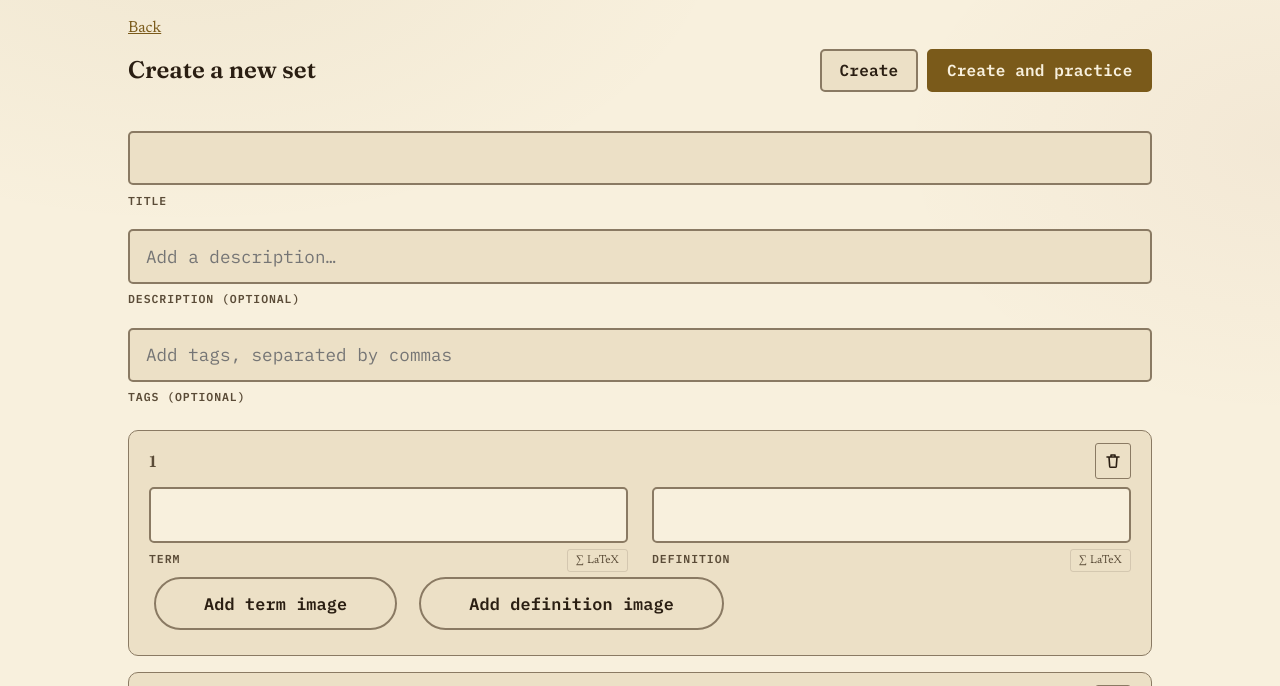
SetCreatePage › requires a title with an accessible inline error
The image size is (1280, 686).
In the text box named "Term for card 1": (388, 515) [149,487,628,543], type "q"
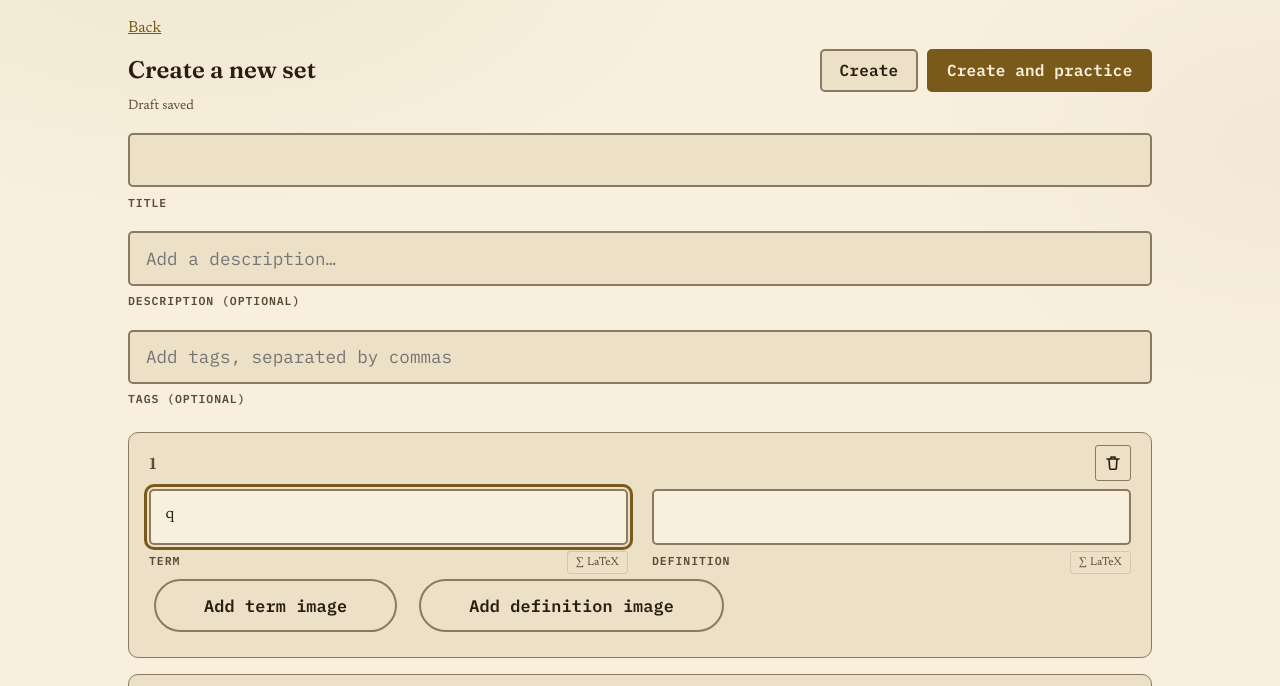
In the text box named "Definition for card 1": (892, 517) [652,489,1131,545], type "a"
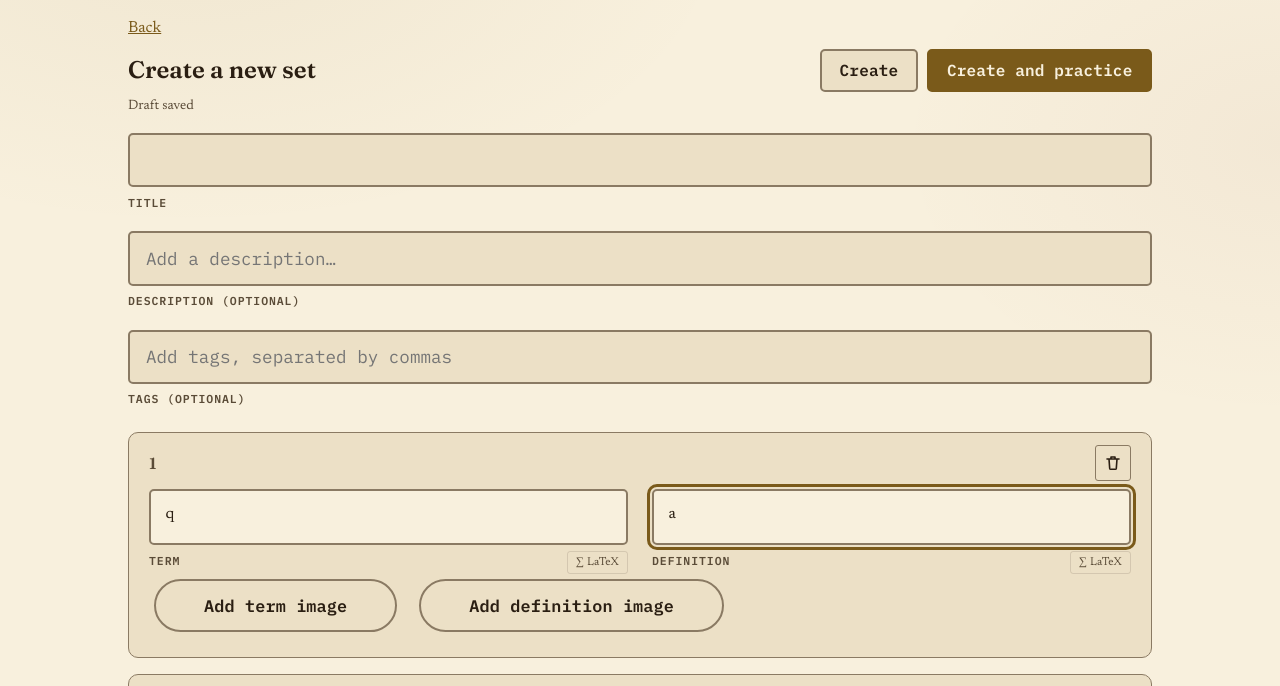
Click the button "Create": (869, 70) [820,49,918,92]
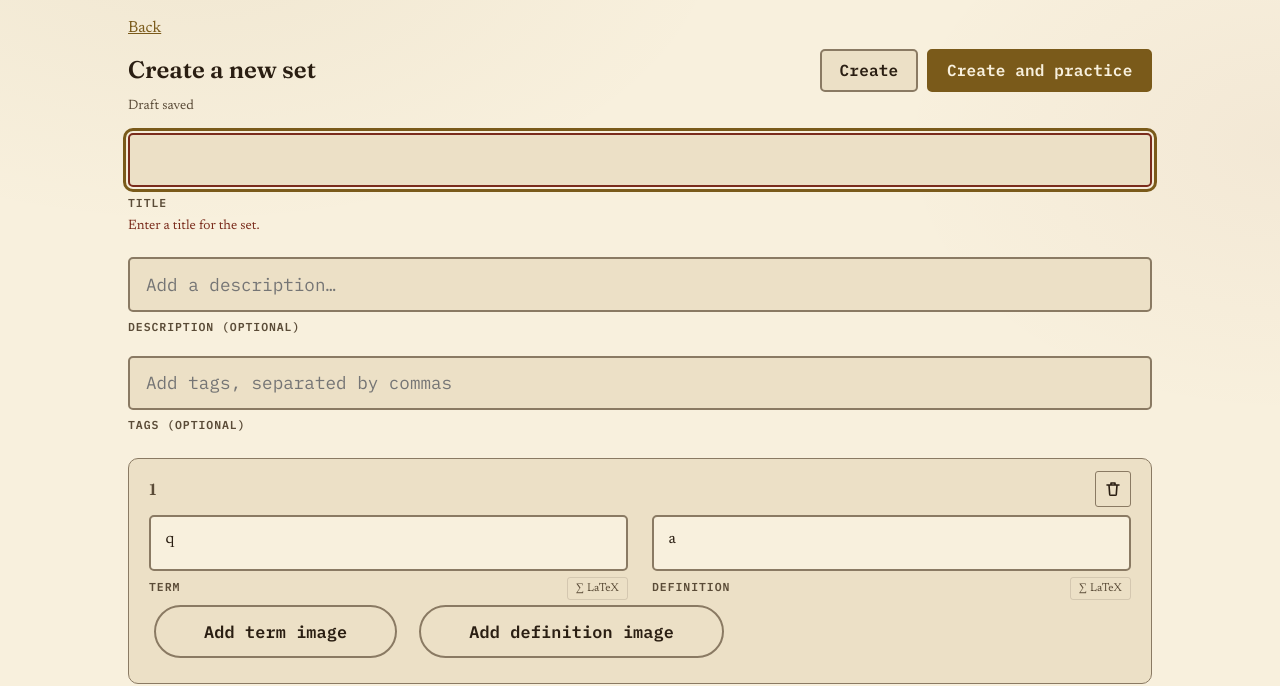
expect the message "Enter a title for the set." is shown: met, box [128,219,260,233]
In the field labelled "Title": (640, 160) [128,133,1152,187], type "T"
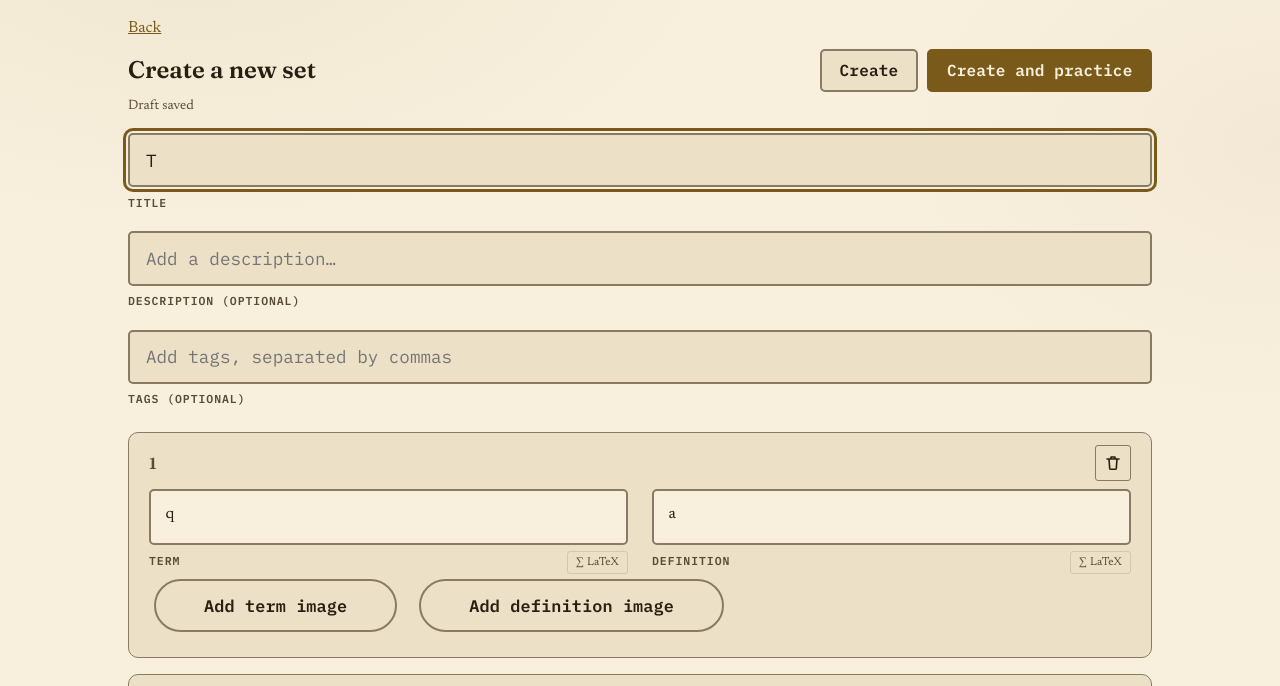
expect the message "Enter a title for the set." is gone: met
